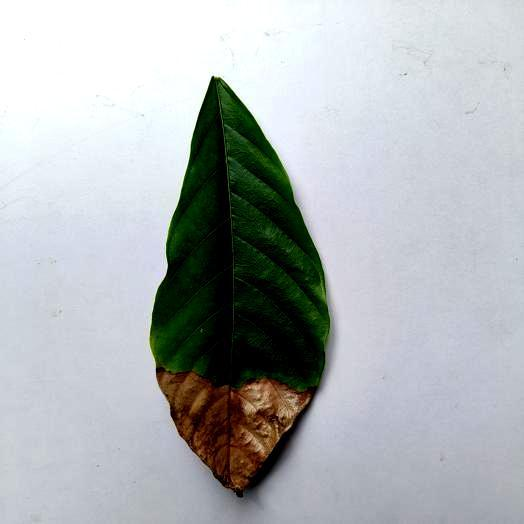Potassium: (150, 77, 329, 493)
